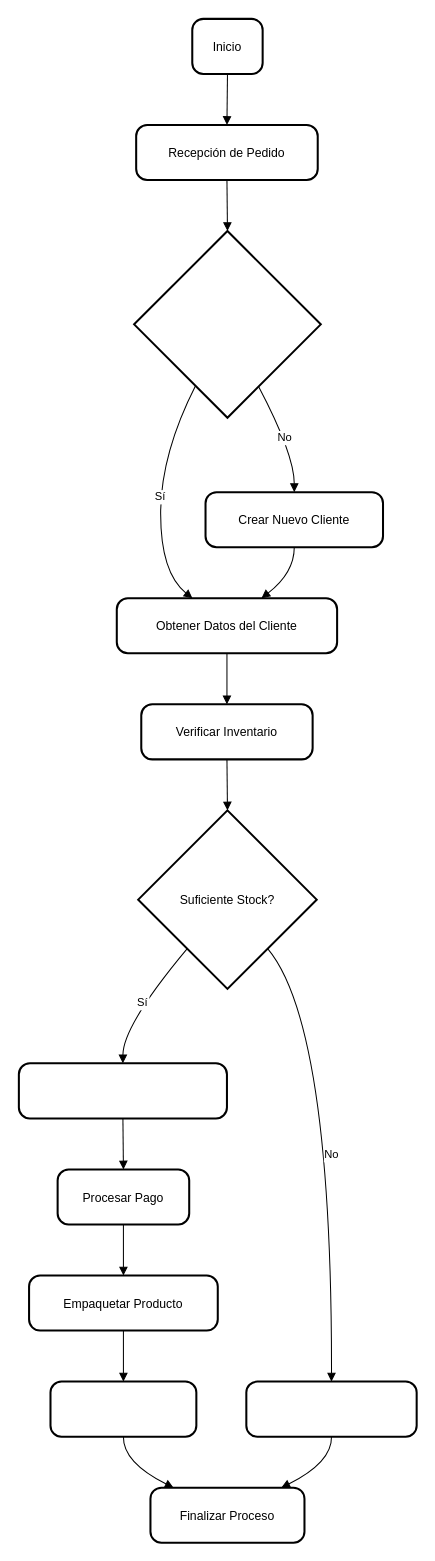
Some shapes in this 435 by 1561 pixel diagram are drawn without their labels. Here are the shapes that lost their labels. From the top down, the centre of each, then its label:
pixel 227 324: Cliente Existente?
pixel 122 1090: Generar Orden de Venta
pixel 123 1408: Enviar Producto
pixel 331 1408: Notificar al Cliente
